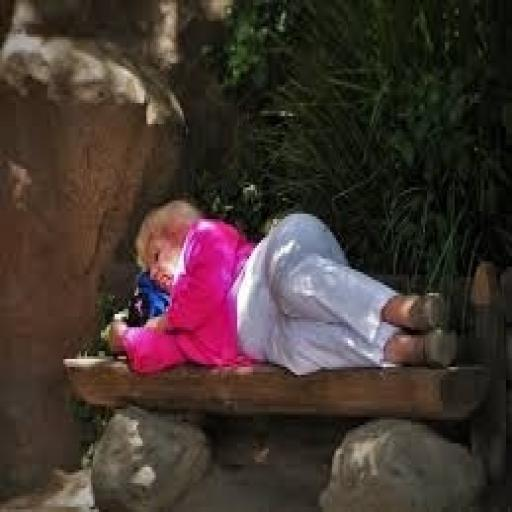sleeping: (106, 193, 456, 377)
